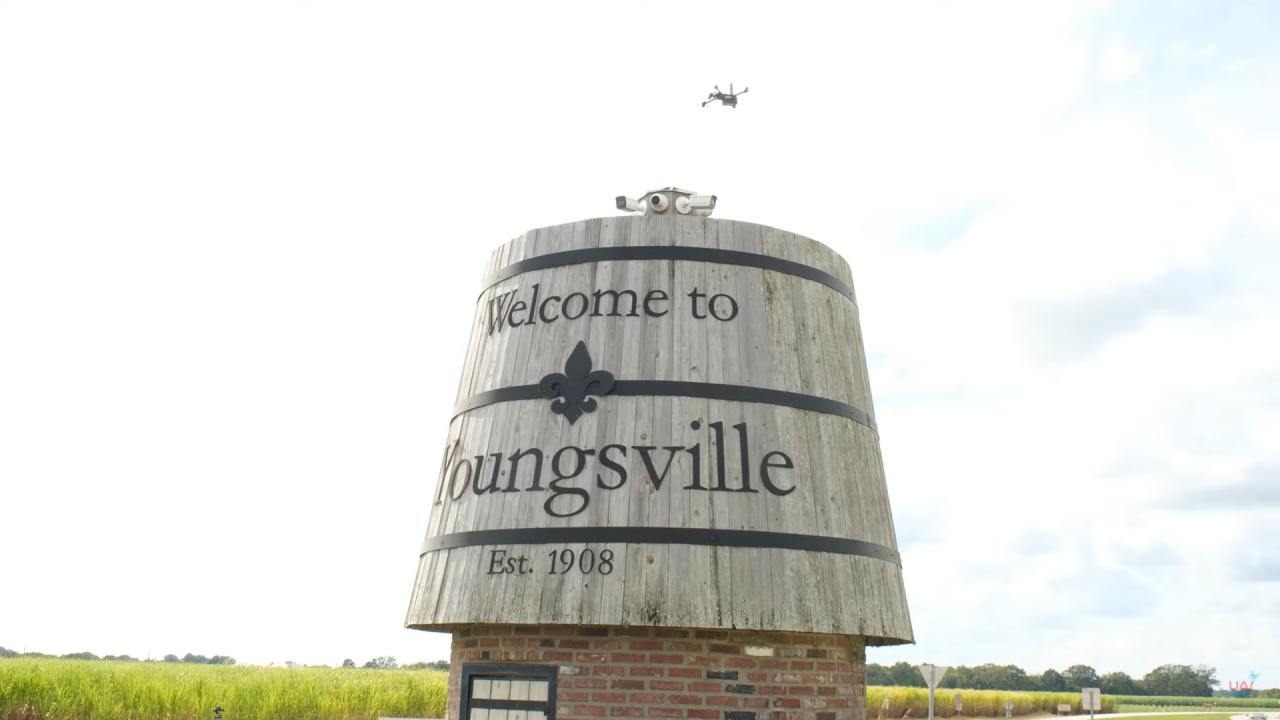Drone: (687, 73, 761, 124)
